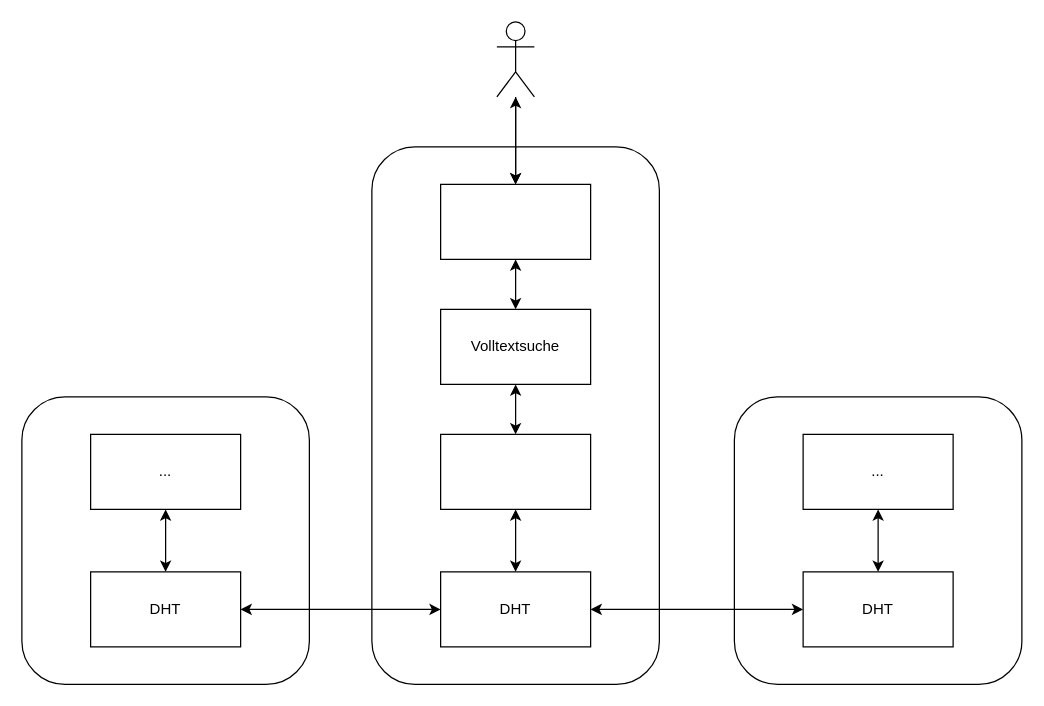
The diagram is 1044 pixels wide and 706 high, and some of its shapes have lost their labels. Each missing label, with the box of its shape:
Connector: (439, 433, 591, 509)
UI: (439, 183, 591, 259)
